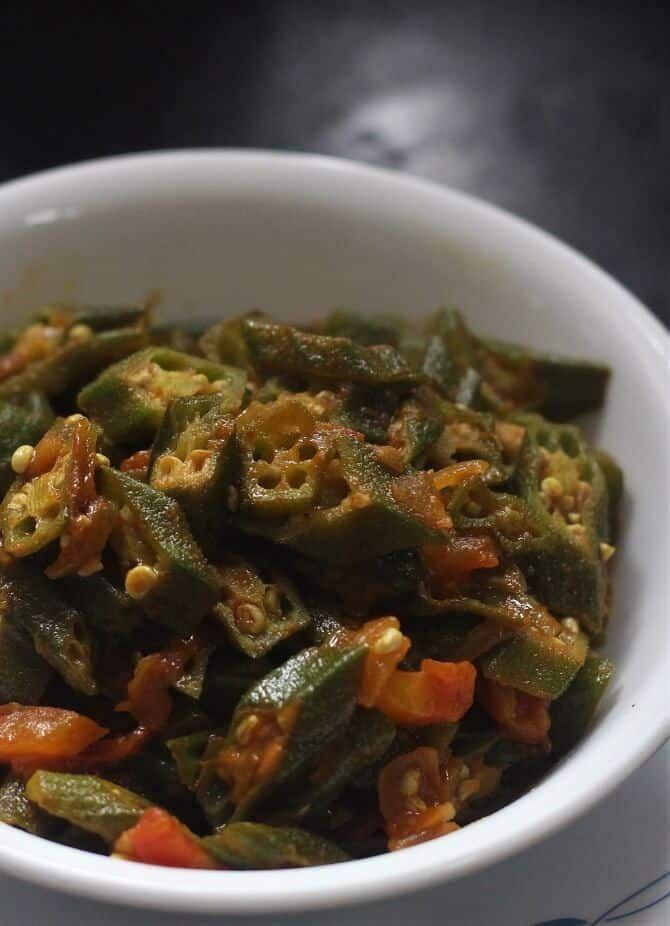bhindi: (3, 332, 521, 822)
